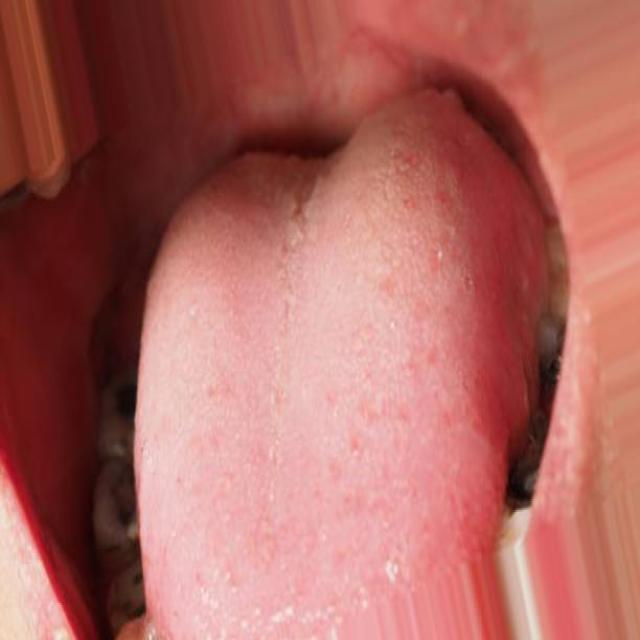caries: (90, 451, 150, 552), (100, 366, 146, 462), (532, 304, 580, 396), (99, 552, 155, 630)
